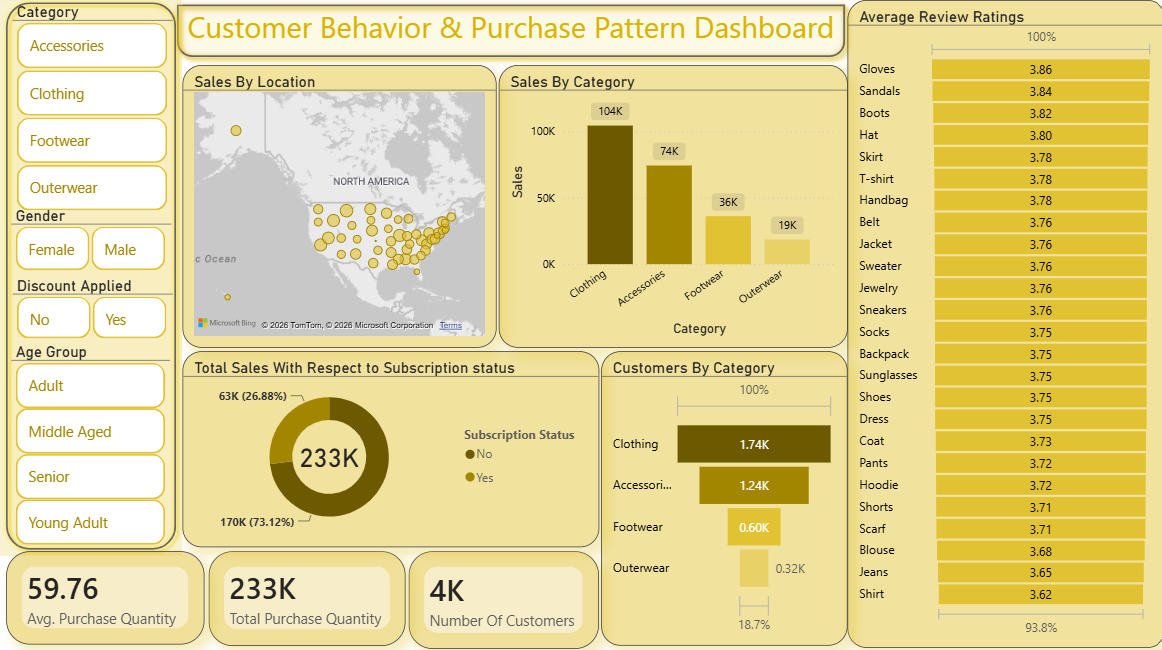

The page's visual inventory and layout, read from the dashboard file:
{"tool":"powerbi","page":{"name":"Page 1","canvas":[1280,720],"ordinal":0},"visuals":[{"type":"shape","box":[185.7,1.4,751.4,75.7],"z":0},{"type":"textbox","box":[190.6,8.4,740,68.6],"z":1000},{"type":"shape","box":[0,1.4,200,614.3],"z":2000},{"type":"advancedSlicerVisual","title":"Category","fields":{"Values":["customer.category"]},"box":[14.3,8.6,175.7,234.3],"z":3000},{"type":"advancedSlicerVisual","title":"Gender","fields":{"Values":["customer.gender"]},"box":[12.9,231.4,175.7,74.3],"z":4000},{"type":"advancedSlicerVisual","title":"Discount Applied","fields":{"Values":["customer.discount_applied"]},"box":[14.3,308.6,175.7,72.9],"z":5000},{"type":"advancedSlicerVisual","title":"Age Group","fields":{"Values":["customer.age_group"]},"box":[12.9,381.4,174.3,228.6],"z":6000},{"type":"map","title":"Sales By Location","fields":{"Category":["customer.location"],"Size":["Sum(customer.purchase_amount)"]},"box":[200,77.5,345,310],"z":7000},{"type":"cardVisual","fields":{"Data":["customer.Number Of Customers"]},"box":[448.8,610,208.8,107.5],"z":8000},{"type":"cardVisual","fields":{"Data":["Sum(customer.purchase_amount)"]},"box":[228.8,610,216.2,103.8],"z":9000},{"type":"cardVisual","fields":{"Data":["customer.Average Purchase Amount"]},"box":[7.5,610,217.5,102.5],"z":10000},{"type":"clusteredColumnChart","title":"Sales By Category","fields":{"Y":["Sum(customer.purchase_amount)"],"Category":["customer.category"]},"box":[547.1,77.1,382.9,310],"z":11000},{"type":"donutChart","title":"Total Sales With Respect to Subscription status","fields":{"Category":["customer.subscription_status"],"Y":["Sum(customer.purchase_amount)"]},"box":[200,391.2,457.5,215],"z":12000},{"type":"funnel","title":"Average Review Ratings","fields":{"Category":["customer.item_purchased"],"Y":["customer.Average Review Rating"]},"box":[930,5.7,350,711.4],"z":13000},{"type":"funnel","title":"Customers By Category","fields":{"Y":["Count(customer.customer_id)"],"Category":["customer.category"]},"box":[660,391.4,270,322.9],"z":14000}]}

Visuals, with their boxes in screenshot pixels (x1, y1, x2, y2), scaled from the page's 1280x720 canvas onto the 1162x650 screenshot:
shape: 169/1/851/70
textbox: 173/8/845/70
shape: 0/1/182/556
"Category" advancedSlicerVisual: 13/8/172/219
"Gender" advancedSlicerVisual: 12/209/171/276
"Discount Applied" advancedSlicerVisual: 13/279/172/344
"Age Group" advancedSlicerVisual: 12/344/170/551
"Sales By Location" map: 182/70/495/350
cardVisual - customer.Number Of Customers: 407/551/597/648
cardVisual - Sum(customer.purchase_amount): 208/551/404/644
cardVisual - customer.Average Purchase Amount: 7/551/204/643
"Sales By Category" clusteredColumnChart: 497/70/844/349
"Total Sales With Respect to Subscription status" donutChart: 182/353/597/547
"Average Review Ratings" funnel: 844/5/1161/647
"Customers By Category" funnel: 599/353/844/645
